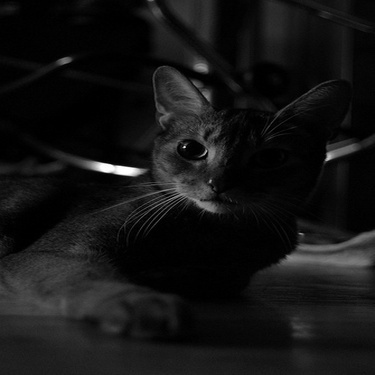cat: (8, 60, 339, 342)
